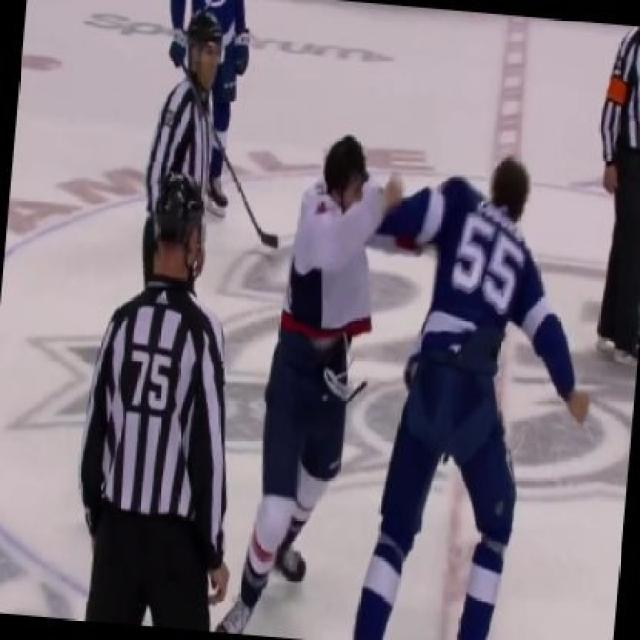fight: (183, 97, 632, 638)
non-fight: (37, 148, 274, 635), (560, 9, 638, 374), (138, 19, 226, 302)
